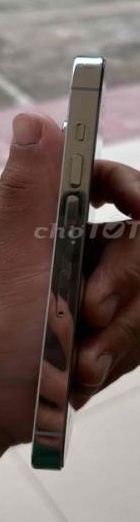scratch: (66, 229, 85, 254)
